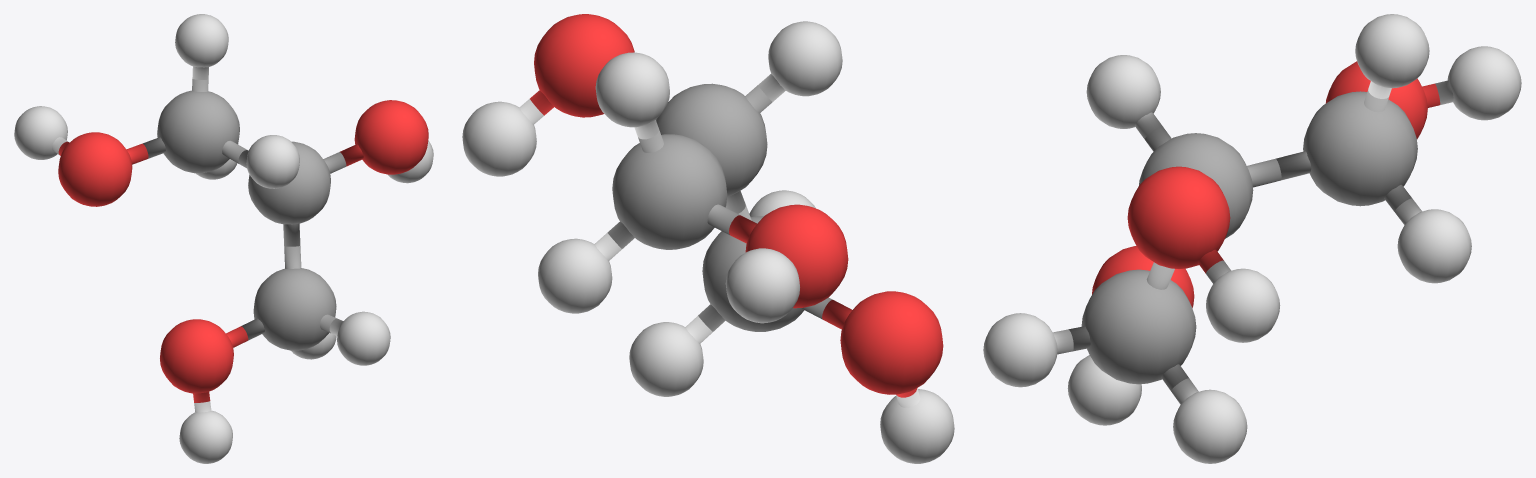
The model's file is glicerol.glb.
3 views of the same model, side by side, from view 1: azimuth 30°, elevation 25°; view 2: azimuth 150°, elevation 25°; view 3: azimuth 270°, elevation 25° (orthographic). The views are drawn at different scales.
Parts seen in each view (by area): view 1: Shape_Sphere_26, Shape_Sphere.002_28, Shape_Sphere.003_29, Shape_Sphere.005_31, Shape_Sphere.004_30, Shape_Sphere.001_27, Shape_Sphere.006_32, Shape_Sphere.010_36, Shape_Sphere.008_34, Shape_Sphere.011_37, Shape_Sphere.013_39, Shape_Sphere.012_38 (+1 smaller); view 2: Shape_Sphere_26, Shape_Sphere.003_29, Shape_Sphere.001_27, Shape_Sphere.004_30, Shape_Sphere.005_31, Shape_Sphere.013_39, Shape_Sphere.006_32, Shape_Sphere.008_34, Shape_Sphere.012_38, Shape_Sphere.007_33, Shape_Sphere.009_35, Shape_Sphere.011_37 (+5 smaller); view 3: Shape_Sphere.002_28, Shape_Sphere_26, Shape_Sphere.004_30, Shape_Sphere.001_27, Shape_Sphere.007_33, Shape_Sphere.006_32, Shape_Sphere.009_35, Shape_Sphere.010_36, Shape_Sphere.012_38, Shape_Sphere.013_39, Shape_Sphere.008_34, Shape_Sphere.011_37 (+4 smaller).
Boxes of the visible parts, left/top/right/bottom form: Shape_Sphere_26: left=157, top=90, right=239, bottom=173; Shape_Sphere.002_28: left=253, top=268, right=336, bottom=350; Shape_Sphere.003_29: left=160, top=319, right=233, bottom=393; Shape_Sphere.005_31: left=58, top=132, right=132, bottom=206; Shape_Sphere.004_30: left=354, top=100, right=428, bottom=174; Shape_Sphere.001_27: left=248, top=141, right=330, bottom=224; Shape_Sphere.006_32: left=175, top=14, right=228, bottom=67; Shape_Sphere.010_36: left=337, top=311, right=390, bottom=365; Shape_Sphere.008_34: left=246, top=135, right=299, bottom=188; Shape_Sphere.011_37: left=179, top=410, right=232, bottom=463; Shape_Sphere.013_39: left=14, top=106, right=67, bottom=159; Shape_Sphere.012_38: left=387, top=140, right=433, bottom=183; Shape_Sphere_26: left=612, top=134, right=727, bottom=249; Shape_Sphere.003_29: left=840, top=291, right=943, bottom=394; Shape_Sphere.001_27: left=656, top=83, right=767, bottom=196; Shape_Sphere.004_30: left=534, top=14, right=634, bottom=117; Shape_Sphere.005_31: left=745, top=204, right=848, bottom=308; Shape_Sphere.013_39: left=725, top=248, right=799, bottom=323; Shape_Sphere.006_32: left=595, top=52, right=669, bottom=127; Shape_Sphere.008_34: left=768, top=21, right=842, bottom=96; Shape_Sphere.012_38: left=462, top=101, right=536, bottom=176; Shape_Sphere.007_33: left=538, top=238, right=612, bottom=313; Shape_Sphere.009_35: left=629, top=322, right=703, bottom=396; Shape_Sphere.011_37: left=880, top=389, right=954, bottom=463; Shape_Sphere.002_28: left=1081, top=269, right=1196, bottom=384; Shape_Sphere_26: left=1303, top=91, right=1417, bottom=206; Shape_Sphere.004_30: left=1127, top=166, right=1230, bottom=268; Shape_Sphere.001_27: left=1139, top=133, right=1253, bottom=238; Shape_Sphere.007_33: left=1397, top=209, right=1471, bottom=283; Shape_Sphere.006_32: left=1355, top=14, right=1429, bottom=88; Shape_Sphere.009_35: left=1173, top=389, right=1247, bottom=463; Shape_Sphere.010_36: left=983, top=313, right=1057, bottom=387; Shape_Sphere.012_38: left=1206, top=268, right=1280, bottom=342; Shape_Sphere.013_39: left=1447, top=46, right=1521, bottom=120; Shape_Sphere.008_34: left=1086, top=55, right=1160, bottom=128; Shape_Sphere.011_37: left=1067, top=355, right=1141, bottom=425.
Size of the model in its own units: 4.57 by 4.62 by 4.78.
